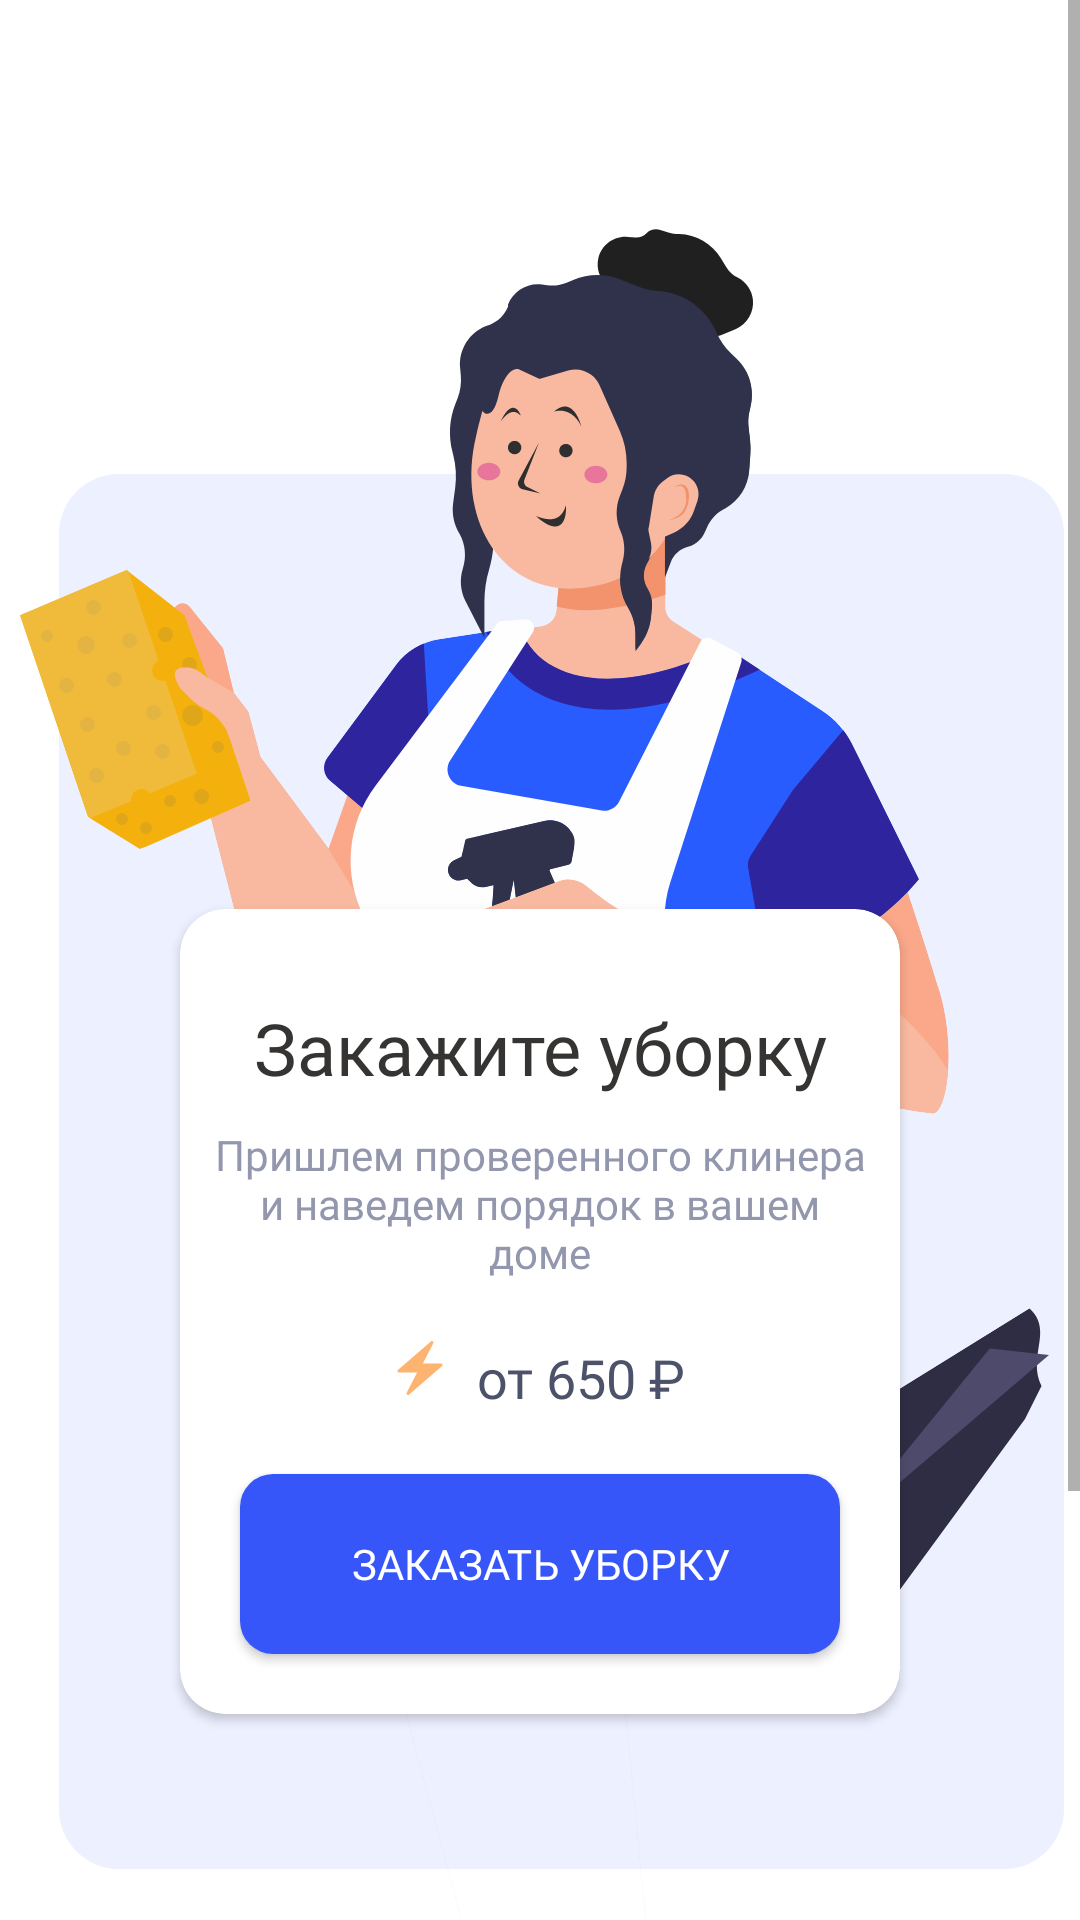

Where to tap for icons on this 1080px x 1920px app screen, as point (x, y):
molnia: point (420, 1368)
